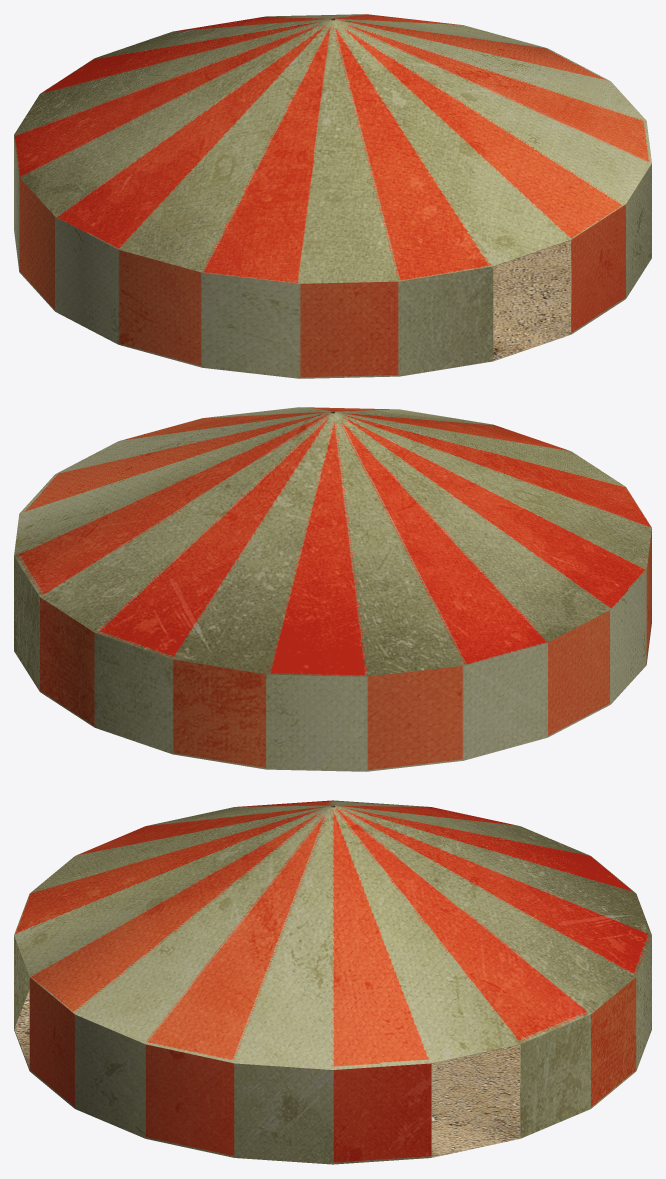
File: Tent (1).FBX
The picture shows the model from 3 angles, top to bottom: view 1: azimuth 30°, elevation 25°; view 2: azimuth 150°, elevation 25°; view 3: azimuth 270°, elevation 25°; orthographic projection.
Parts seen in each view (by area): view 1: Cylinder001; view 2: Cylinder001; view 3: Cylinder001.
Part boxes in pixels (bbox=[...]): Cylinder001: bbox=[14, 14, 651, 378]; Cylinder001: bbox=[14, 407, 651, 771]; Cylinder001: bbox=[14, 800, 651, 1164].
Size of the model in its own units: 910 by 351 by 910.
Materials: 1 (1 with a texture image).
